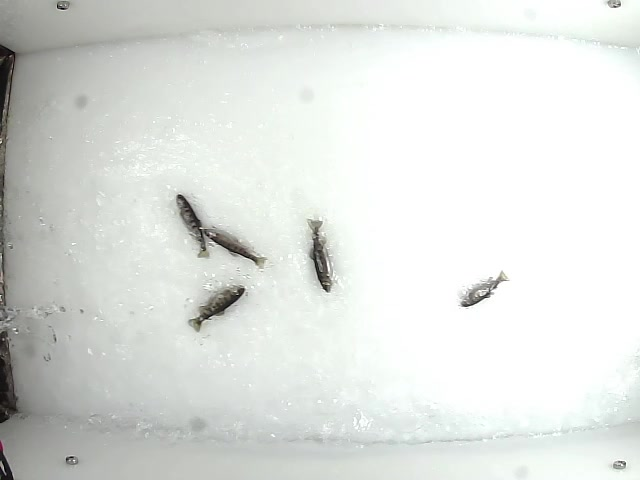fish: (198, 223, 270, 272), (184, 283, 249, 334), (173, 190, 209, 261), (304, 216, 335, 295), (457, 266, 511, 310)
